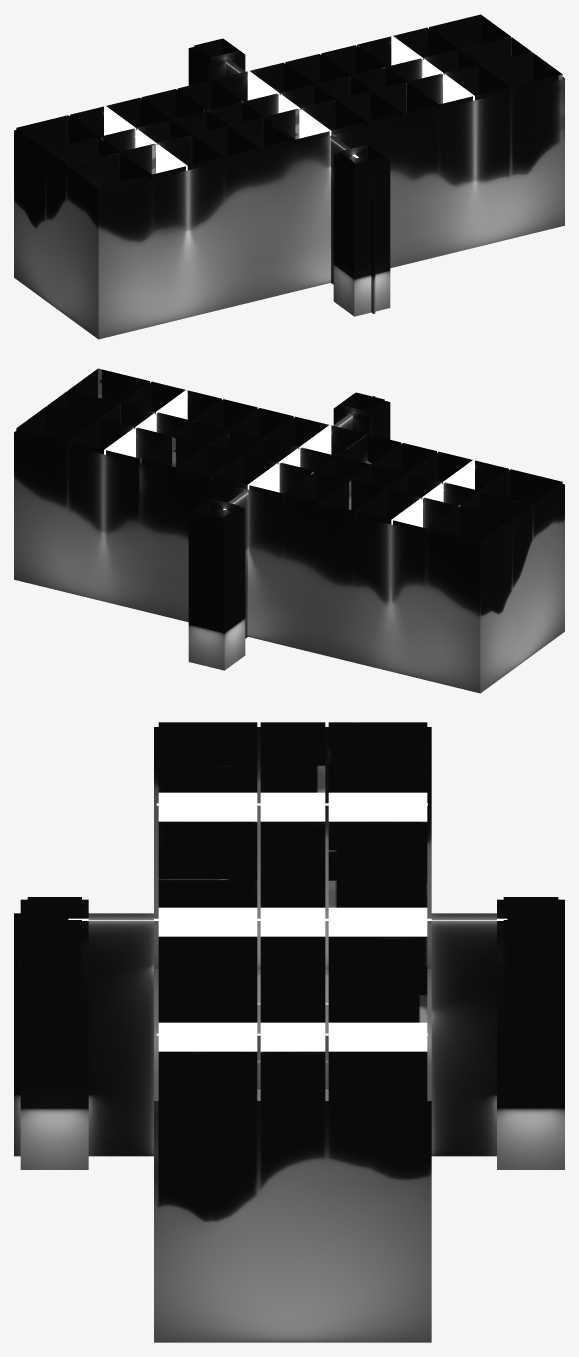
File: gallery.glb
The picture shows the model from 3 angles, top to bottom: view 1: azimuth 30°, elevation 25°; view 2: azimuth 150°, elevation 25°; view 3: azimuth 270°, elevation 25°; orthographic projection. The views are drawn at different scales.
Visible parts, largest first — view 1: gallery_walls, gallery_ceiling, gallery_emit; view 2: gallery_walls, gallery_ceiling, gallery_emit; view 3: gallery_walls, gallery_ceiling, gallery_emit.
Part boxes in pixels (bbox=[...]): gallery_walls: bbox=[14, 38, 564, 339]; gallery_ceiling: bbox=[16, 14, 562, 192]; gallery_emit: bbox=[104, 36, 474, 173]; gallery_walls: bbox=[14, 392, 564, 693]; gallery_ceiling: bbox=[16, 368, 562, 546]; gallery_emit: bbox=[104, 390, 474, 527]; gallery_walls: bbox=[14, 727, 564, 1342]; gallery_ceiling: bbox=[158, 722, 427, 1100]; gallery_emit: bbox=[68, 792, 507, 1051].
Size of the model in its own units: 390 by 120 by 243.
Materials: 4 (3 with a texture image).
